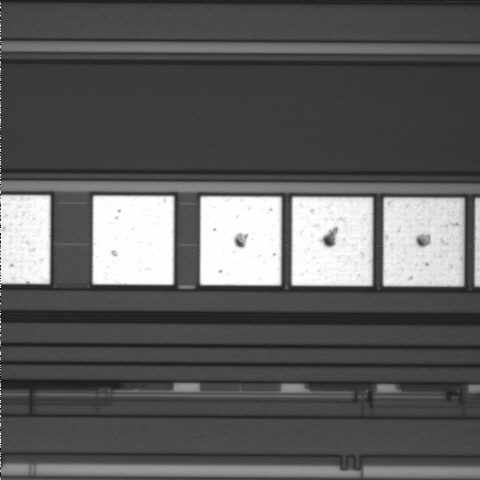pad: (200, 196, 282, 285), (93, 196, 174, 285), (292, 197, 373, 286), (383, 198, 464, 286)
